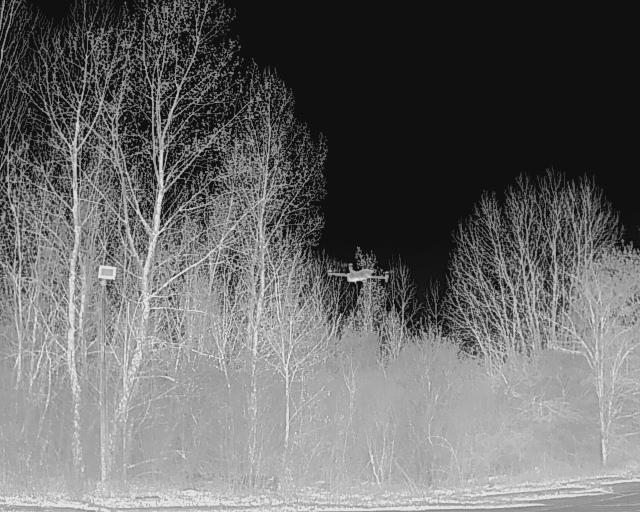drone: (322, 242, 404, 304)
